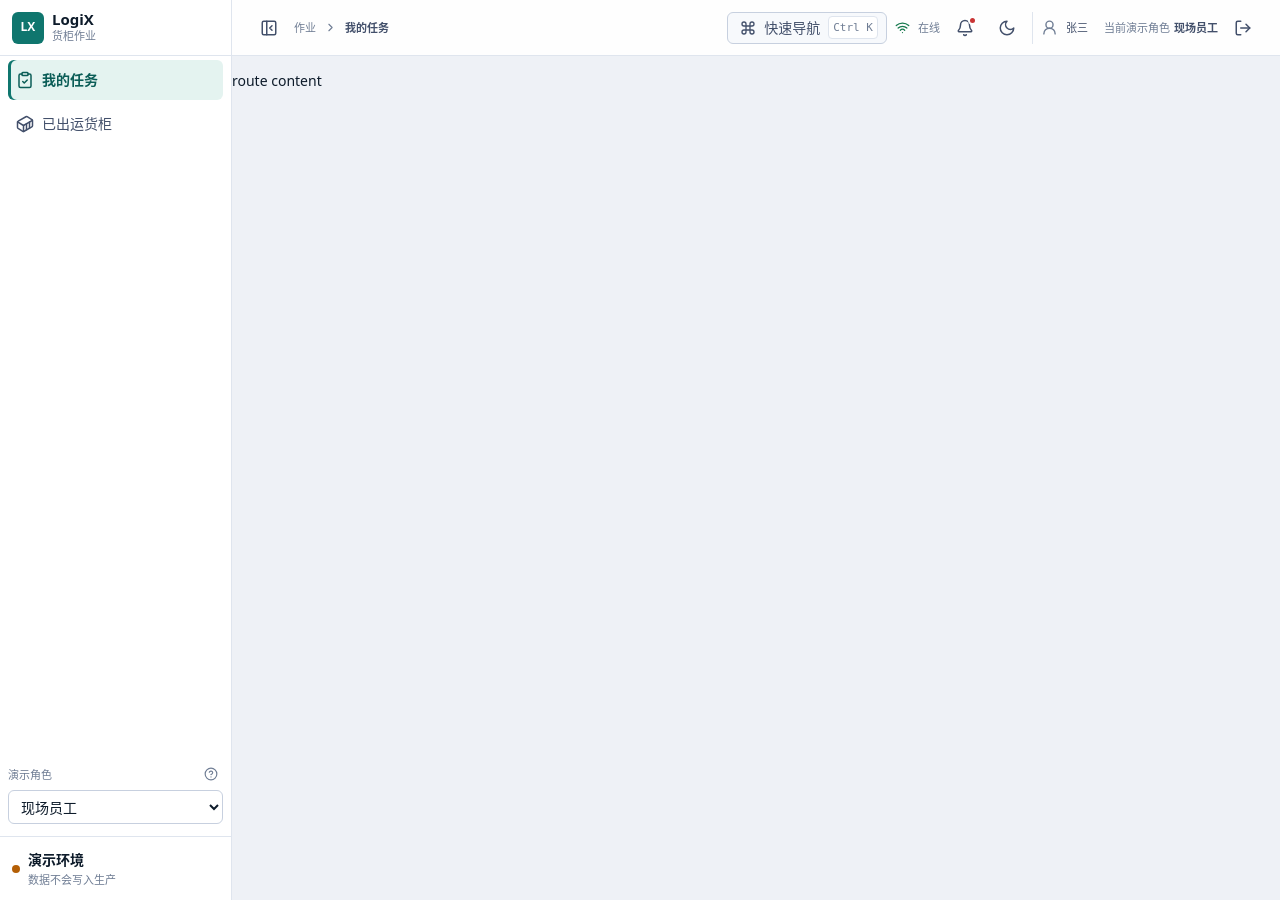
Test: AppShell › 注销失败时恢复按钮并提示可重试
The image size is (1280, 900).
Step 1. Click the button named "退出登录" → (1243, 28), box [1226,10,1260,44]
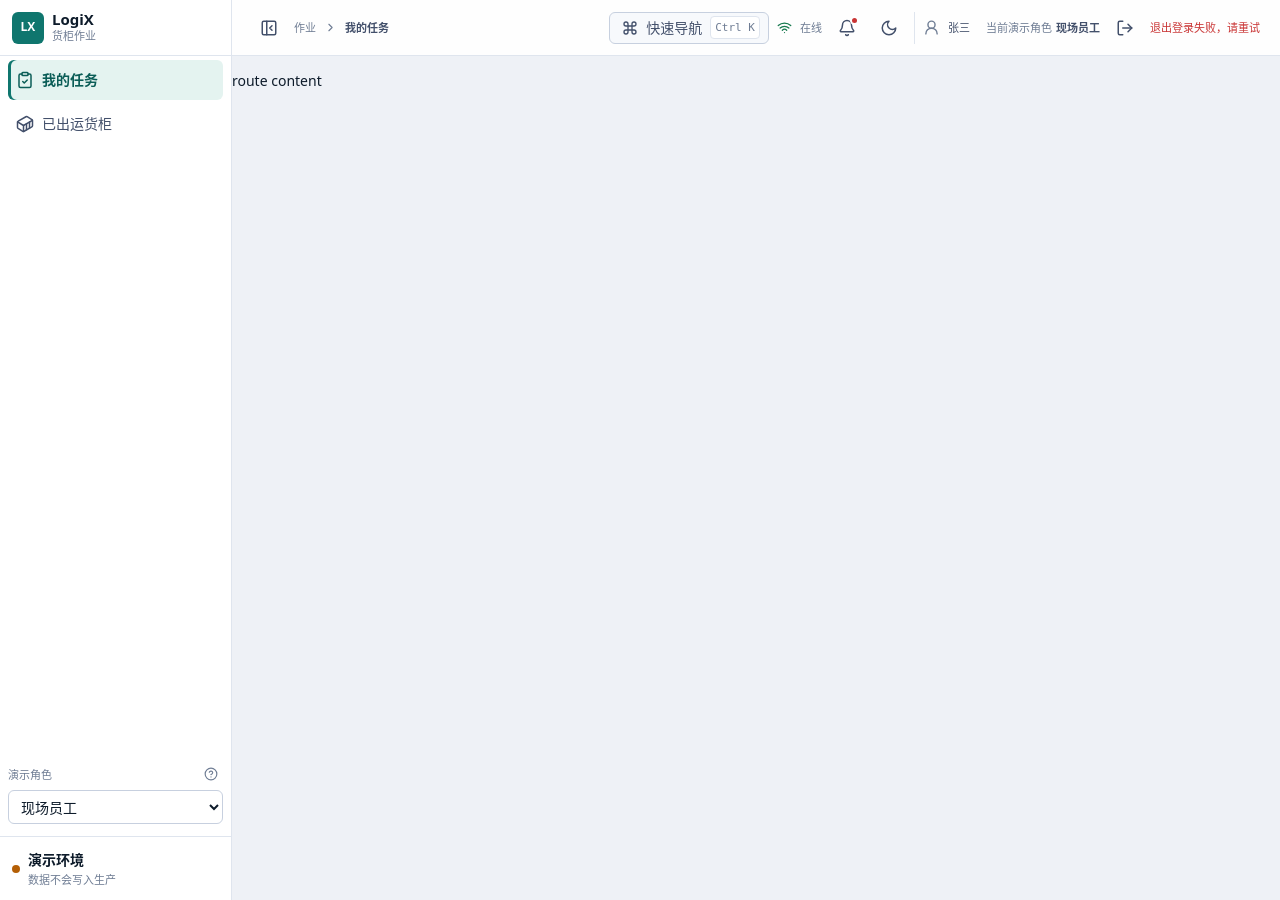
Expected: the button named "退出登录" is enabled, [1108,10,1142,44]
Expected: the message "退出登录失败，请重试" is shown, [1150,19,1260,36]
